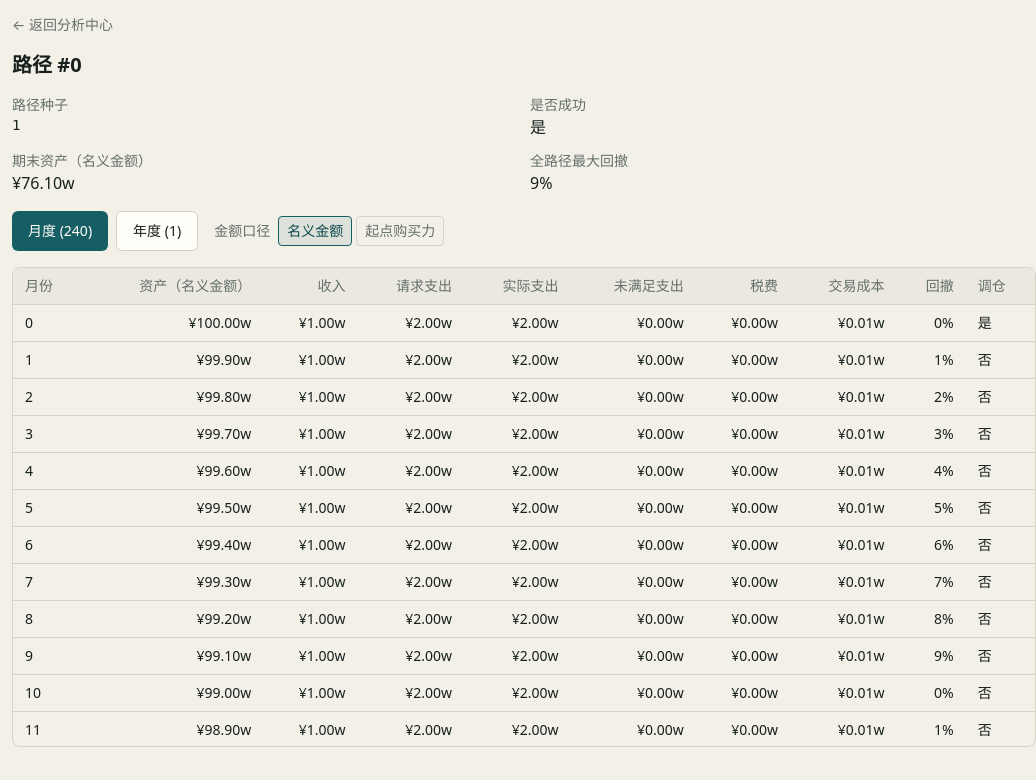
PathDetailPage › renders — for a null annual_return
expect the button "月度 (240)" is shown: met, box [12, 211, 108, 251]
Click the button "年度 (1)". click: (157, 231)
box: [116, 211, 198, 251]
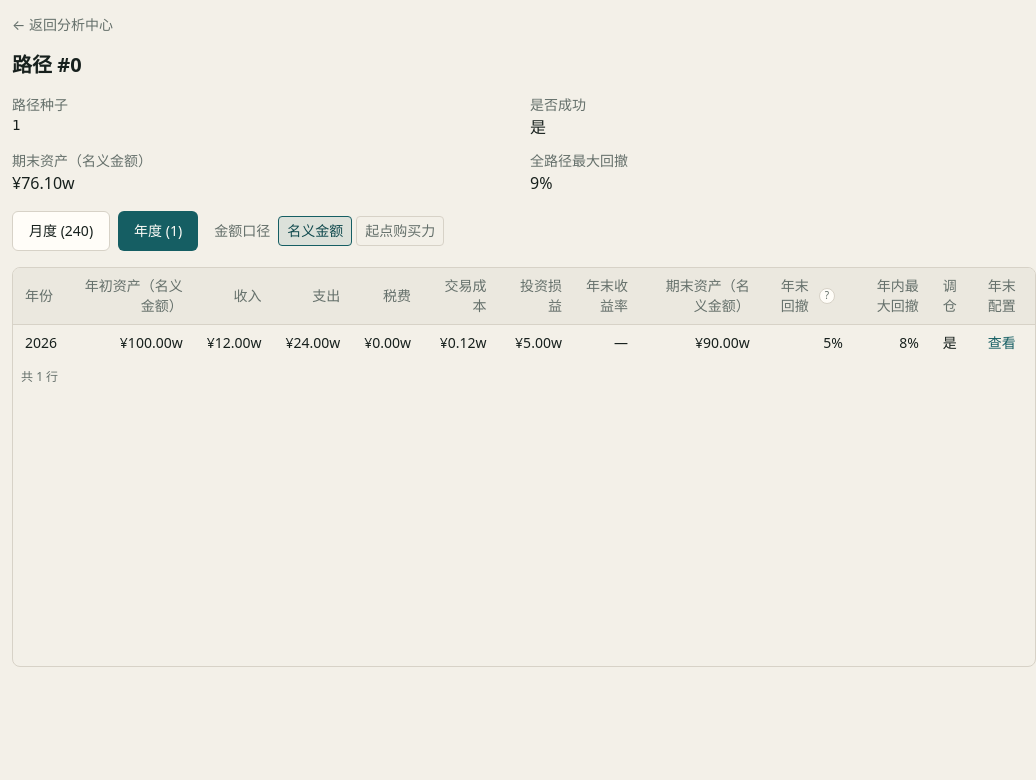
expect the text "—" is shown: met, box [574, 324, 640, 361]
